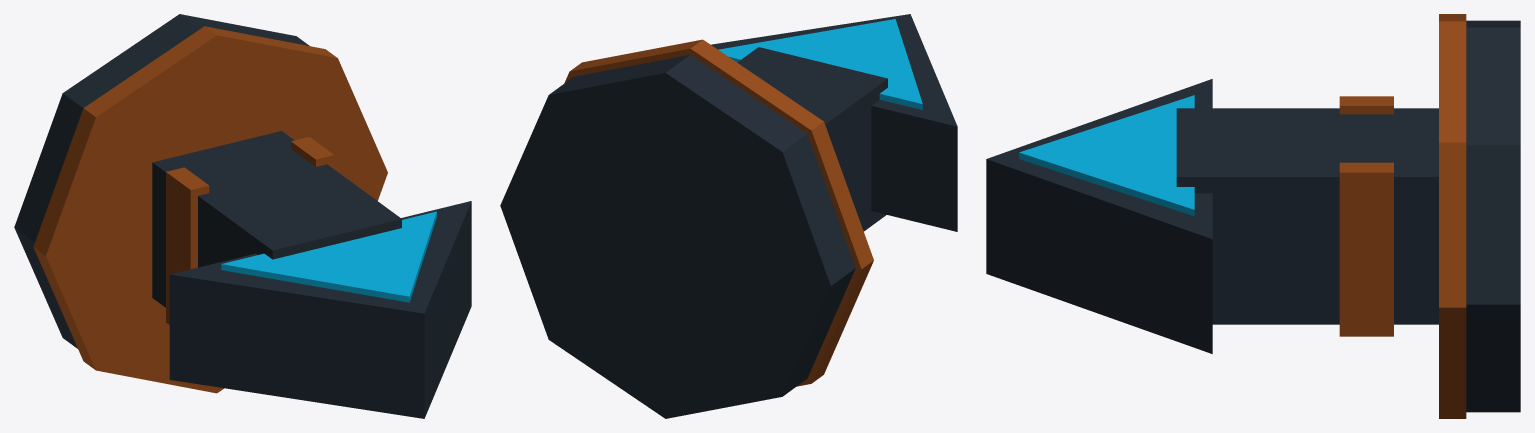
The model's file is SM_D01Launcher.obj.
The picture shows the model from 3 angles, left to right: view 1: azimuth 30°, elevation 25°; view 2: azimuth 150°, elevation 25°; view 3: azimuth 270°, elevation 25°; orthographic projection. The views are drawn at different scales.
Parts seen in each view (by area): view 1: SM_D01Launcher_Metal, SM_D01Launcher_Copper, SM_D01Launcher_Glow; view 2: SM_D01Launcher_Metal, SM_D01Launcher_Copper, SM_D01Launcher_Glow; view 3: SM_D01Launcher_Metal, SM_D01Launcher_Copper, SM_D01Launcher_Glow.
Boxes of the visible parts, x1,y1,x2,y2 form: SM_D01Launcher_Metal: (14, 14, 471, 418); SM_D01Launcher_Copper: (33, 26, 387, 393); SM_D01Launcher_Glow: (221, 211, 436, 302); SM_D01Launcher_Metal: (500, 14, 957, 418); SM_D01Launcher_Copper: (564, 39, 873, 386); SM_D01Launcher_Glow: (718, 19, 922, 109); SM_D01Launcher_Metal: (986, 20, 1520, 412); SM_D01Launcher_Copper: (1339, 14, 1466, 418); SM_D01Launcher_Glow: (1019, 95, 1194, 216).
Bounding box in the file's own units: 23.8 × 23.8 × 29.5.
